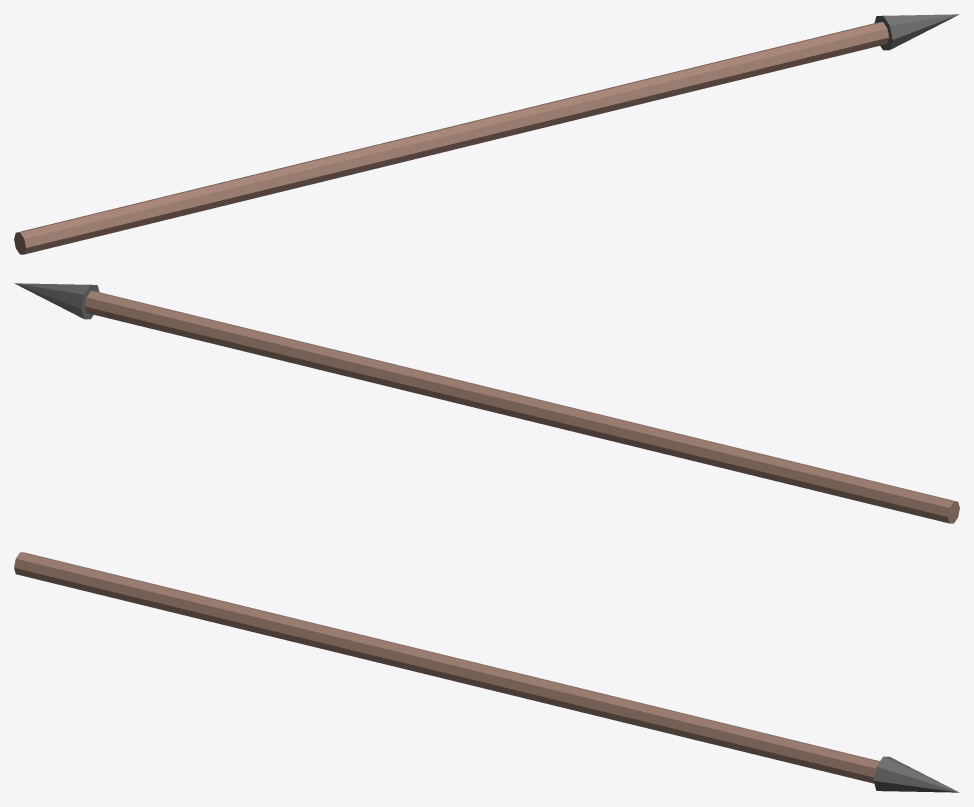
The model's file is Arrow.fbx.
The picture shows the model from 3 angles, top to bottom: view 1: azimuth 30°, elevation 25°; view 2: azimuth 150°, elevation 25°; view 3: azimuth 330°, elevation 25°; orthographic projection.
Visible parts, largest first — view 1: Arrow; view 2: Arrow; view 3: Arrow.
Boxes of the visible parts, x1=… form: Arrow: x1=14, y1=14, x2=959, y2=254; Arrow: x1=14, y1=283, x2=959, y2=523; Arrow: x1=14, y1=552, x2=959, y2=792.
Size of the model in its own units: 2378 by 83.51 by 83.51.
